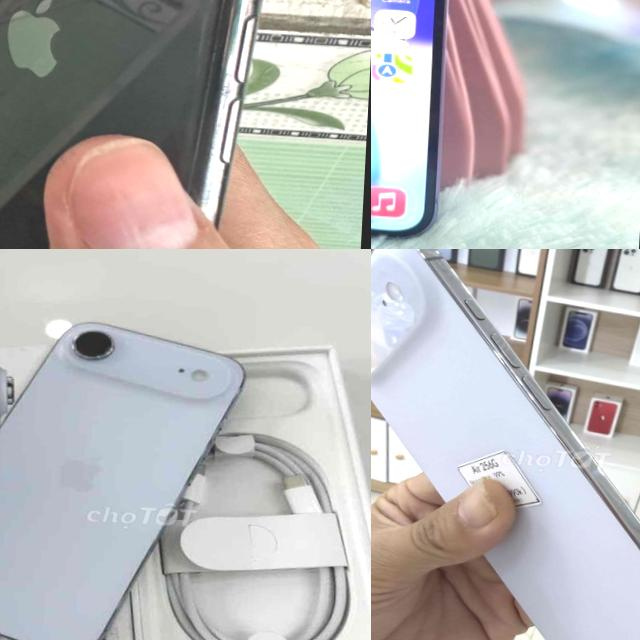scratch: (195, 0, 265, 231)
